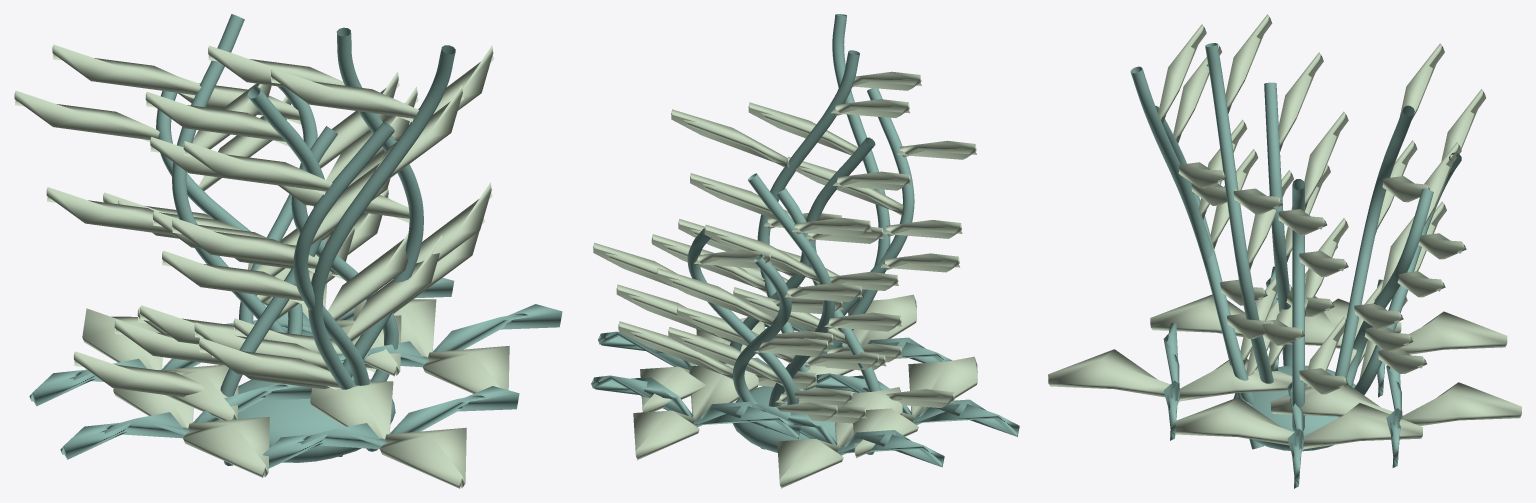
File: bio_aquatic_frond_10_near.glb
3 renders of one model, left to right at view 1: azimuth 30°, elevation 25°; view 2: azimuth 150°, elevation 25°; view 3: azimuth 270°, elevation 25°, orthographic. The views are drawn at different scales.
Parts seen in each view (by area): view 1: Ruffled aquatic blade.010, Ruffled aquatic blade.035, Ruffled aquatic blade.005, Ruffled aquatic blade.025, Ruffled aquatic blade.020, Low buttress leaf.009, Flexible stipe.002, Ruffled aquatic blade.030, Ruffled aquatic blade.015, Low buttress leaf.017, Low buttress leaf.001, Low buttress leaf.008 (+15 smaller); view 2: Ruffled aquatic blade.030, Ruffled aquatic blade.005, Ruffled aquatic blade.020, Ruffled aquatic blade.025, Ruffled aquatic blade.015, Ruffled aquatic blade.010, Low buttress leaf.013, Ruffled aquatic blade.035, Low buttress leaf.017, Ruffled aquatic blade, Low buttress leaf.005, Low buttress leaf.012 (+15 smaller); view 3: Low buttress leaf.001, Low buttress leaf.009, Low buttress leaf.013, Ruffled aquatic blade, Ruffled aquatic blade.025, Flexible stipe.005, Ruffled aquatic blade.010, Ruffled aquatic blade.035, Ruffled aquatic blade.005, Low buttress leaf.005, Flexible stipe.001, Ruffled aquatic blade.030 (+13 smaller).
Boxes of the visible parts, x1=… form: Ruffled aquatic blade.010: x1=172, y1=68, x2=463, y2=389; Ruffled aquatic blade.035: x1=162, y1=141, x2=442, y2=389; Ruffled aquatic blade.005: x1=46, y1=44, x2=332, y2=344; Ruffled aquatic blade.025: x1=194, y1=45, x2=493, y2=370; Ruffled aquatic blade.020: x1=73, y1=86, x2=418, y2=397; Low buttress leaf.009: x1=310, y1=381, x2=466, y2=488; Flexible stipe.002: x1=308, y1=45, x2=455, y2=451; Ruffled aquatic blade.030: x1=14, y1=90, x2=389, y2=333; Ruffled aquatic blade.015: x1=114, y1=71, x2=399, y2=364; Low buttress leaf.017: x1=113, y1=362, x2=269, y2=477; Low buttress leaf.001: x1=353, y1=299, x2=509, y2=393; Low buttress leaf.008: x1=263, y1=386, x2=519, y2=468; Ruffled aquatic blade.030: x1=618, y1=268, x2=862, y2=421; Ruffled aquatic blade.005: x1=677, y1=217, x2=901, y2=407; Ruffled aquatic blade.020: x1=690, y1=171, x2=955, y2=407; Ruffled aquatic blade.025: x1=651, y1=99, x2=909, y2=369; Ruffled aquatic blade.015: x1=593, y1=242, x2=866, y2=423; Ruffled aquatic blade.010: x1=748, y1=71, x2=962, y2=362; Low buttress leaf.013: x1=633, y1=363, x2=758, y2=460; Ruffled aquatic blade.035: x1=740, y1=140, x2=976, y2=370; Low buttress leaf.017: x1=853, y1=356, x2=977, y2=458; Ruffled aquatic blade: x1=616, y1=219, x2=884, y2=388; Low buttress leaf.005: x1=777, y1=387, x2=902, y2=488; Low buttress leaf.012: x1=591, y1=375, x2=800, y2=438; Low buttress leaf.001: x1=1175, y1=397, x2=1422, y2=450; Low buttress leaf.009: x1=1048, y1=349, x2=1292, y2=402; Low buttress leaf.013: x1=1270, y1=382, x2=1521, y2=425; Ruffled aquatic blade: x1=1299, y1=111, x2=1348, y2=415; Ruffled aquatic blade.025: x1=1225, y1=14, x2=1306, y2=371; Flexible stipe.005: x1=1205, y1=43, x2=1273, y2=383; Ruffled aquatic blade.010: x1=1158, y1=24, x2=1277, y2=365; Ruffled aquatic blade.035: x1=1173, y1=43, x2=1292, y2=376; Ruffled aquatic blade.005: x1=1348, y1=43, x2=1444, y2=370; Low buttress leaf.005: x1=1286, y1=311, x2=1507, y2=354; Flexible stipe.001: x1=1335, y1=105, x2=1414, y2=379; Ruffled aquatic blade.030: x1=1359, y1=89, x2=1485, y2=379.
Size of the model in its own units: 2.22 by 1.89 by 2.09.
